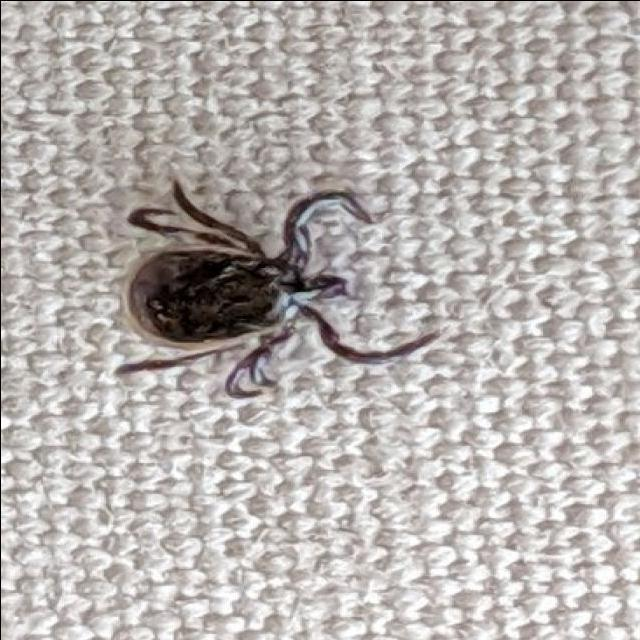Ixodes Ricinus-M: (117, 177, 432, 398)
